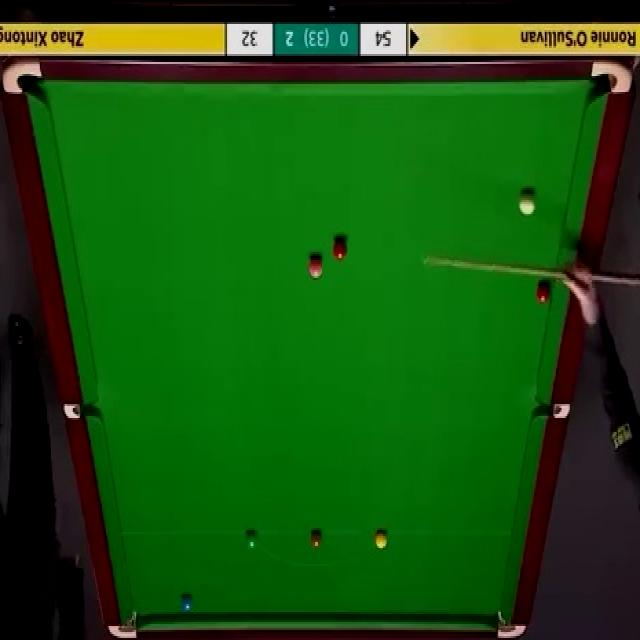blue-ball: (180, 594, 194, 613)
brown-ball: (310, 531, 323, 548)
green-ball: (244, 528, 258, 552)
pink-ball: (308, 256, 324, 280)
red-ball: (535, 282, 551, 305), (333, 239, 348, 262)
white-ball: (519, 190, 537, 218)
yellow-ball: (374, 530, 388, 551)
